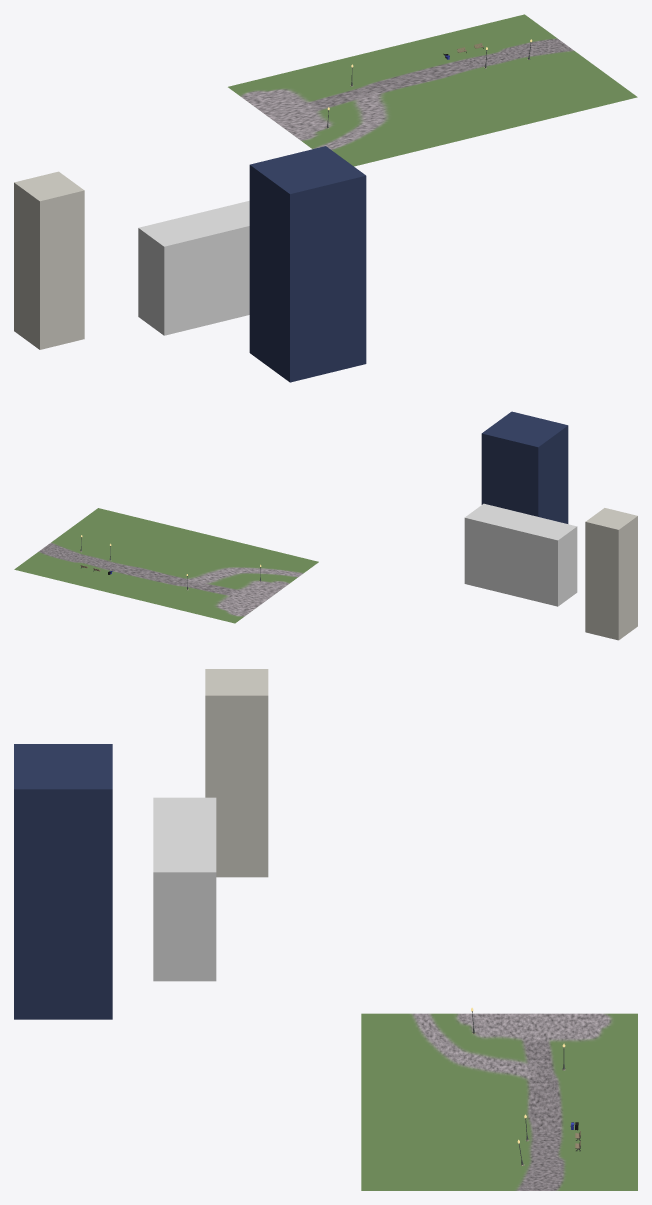
The model's file is bench-scene.glb.
The picture shows the model from 3 angles, top to bottom: view 1: azimuth 30°, elevation 25°; view 2: azimuth 150°, elevation 25°; view 3: azimuth 270°, elevation 25°; orthographic projection. The views are drawn at different scales.
Parts seen in each view (by area): view 1: Plane, Cube.003, Cube.002, Cube.001; view 2: Plane, Cube.002, Cube.003, Cube.001; view 3: Plane, Cube.003, Cube.001, Cube.002.
Boxes of the visible parts, x1,y1,x2,y2 form: Plane: (228,14,637,166); Cube.003: (249,146,366,382); Cube.002: (138,200,249,335); Cube.001: (14,171,84,349); Plane: (14,508,318,623); Cube.002: (464,503,577,606); Cube.003: (481,411,568,523); Cube.001: (585,508,637,640); Plane: (361,1013,637,1190); Cube.003: (14,744,112,1019); Cube.001: (205,669,268,877); Cube.002: (153,797,216,981).
Bounding box in the file's own units: 609 × 166 × 407.
10 materials, 1 textured.
